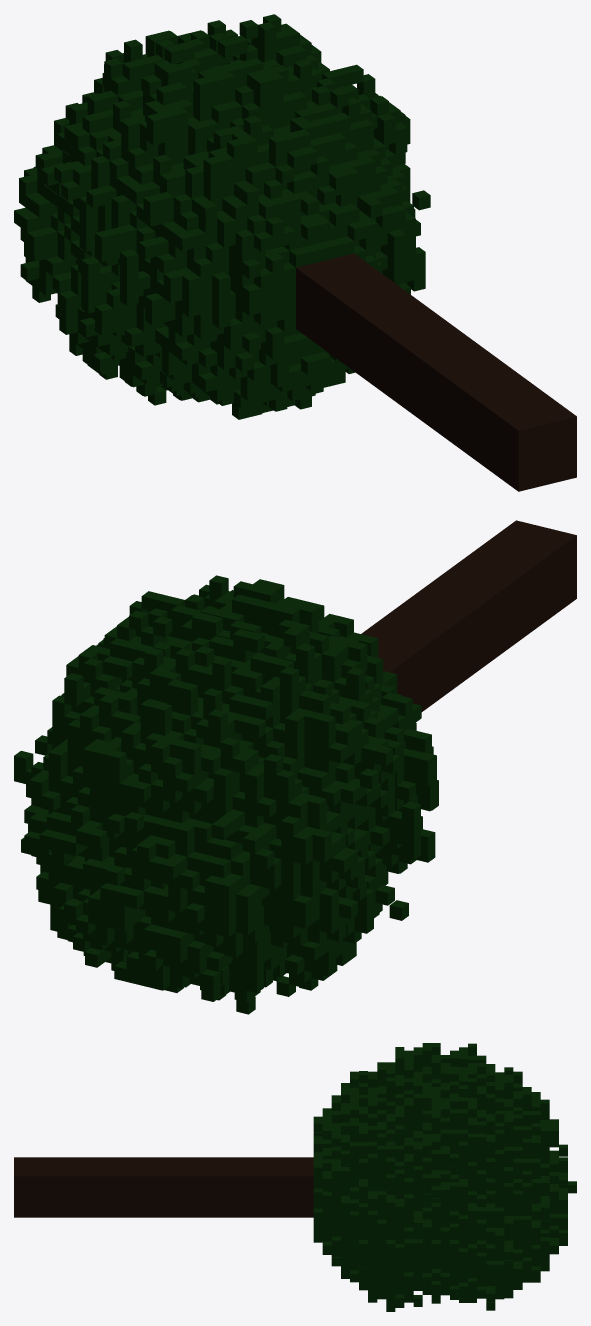
File: tree.dae
3 views of the same model, one above another, from view 1: azimuth 30°, elevation 25°; view 2: azimuth 150°, elevation 25°; view 3: azimuth 270°, elevation 25° (orthographic). The views are drawn at different scales.
Visible parts, largest first — view 1: tree_003; view 2: tree_003; view 3: tree_003.
Boxes of the visible parts, box(x1,y1,x2,y2) form: tree_003: box(14, 14, 576, 491); tree_003: box(14, 520, 576, 1014); tree_003: box(14, 1043, 576, 1311).
Size of the model in its own units: 2.8 by 6.2 by 2.8.
